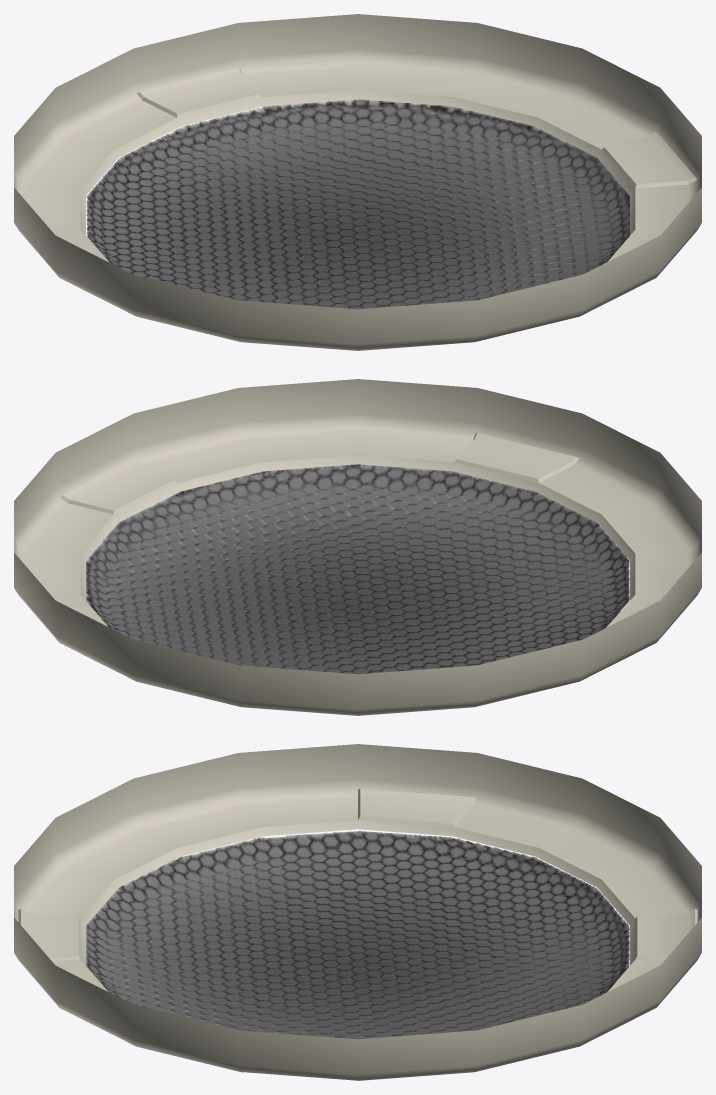
File: SM_Speaker.fbx
3 views of the same model, one above another, from view 1: azimuth 30°, elevation 25°; view 2: azimuth 150°, elevation 25°; view 3: azimuth 270°, elevation 25° (orthographic).
Parts seen in each view (by area): view 1: Speaker; view 2: Speaker; view 3: Speaker.
Part boxes in pixels (x1,y1,x2,y2): Speaker: (14, 14, 701, 350); Speaker: (14, 379, 701, 715); Speaker: (14, 744, 701, 1080).
Bounding box in the file's own units: 42.94 × 5.19 × 42.29.
